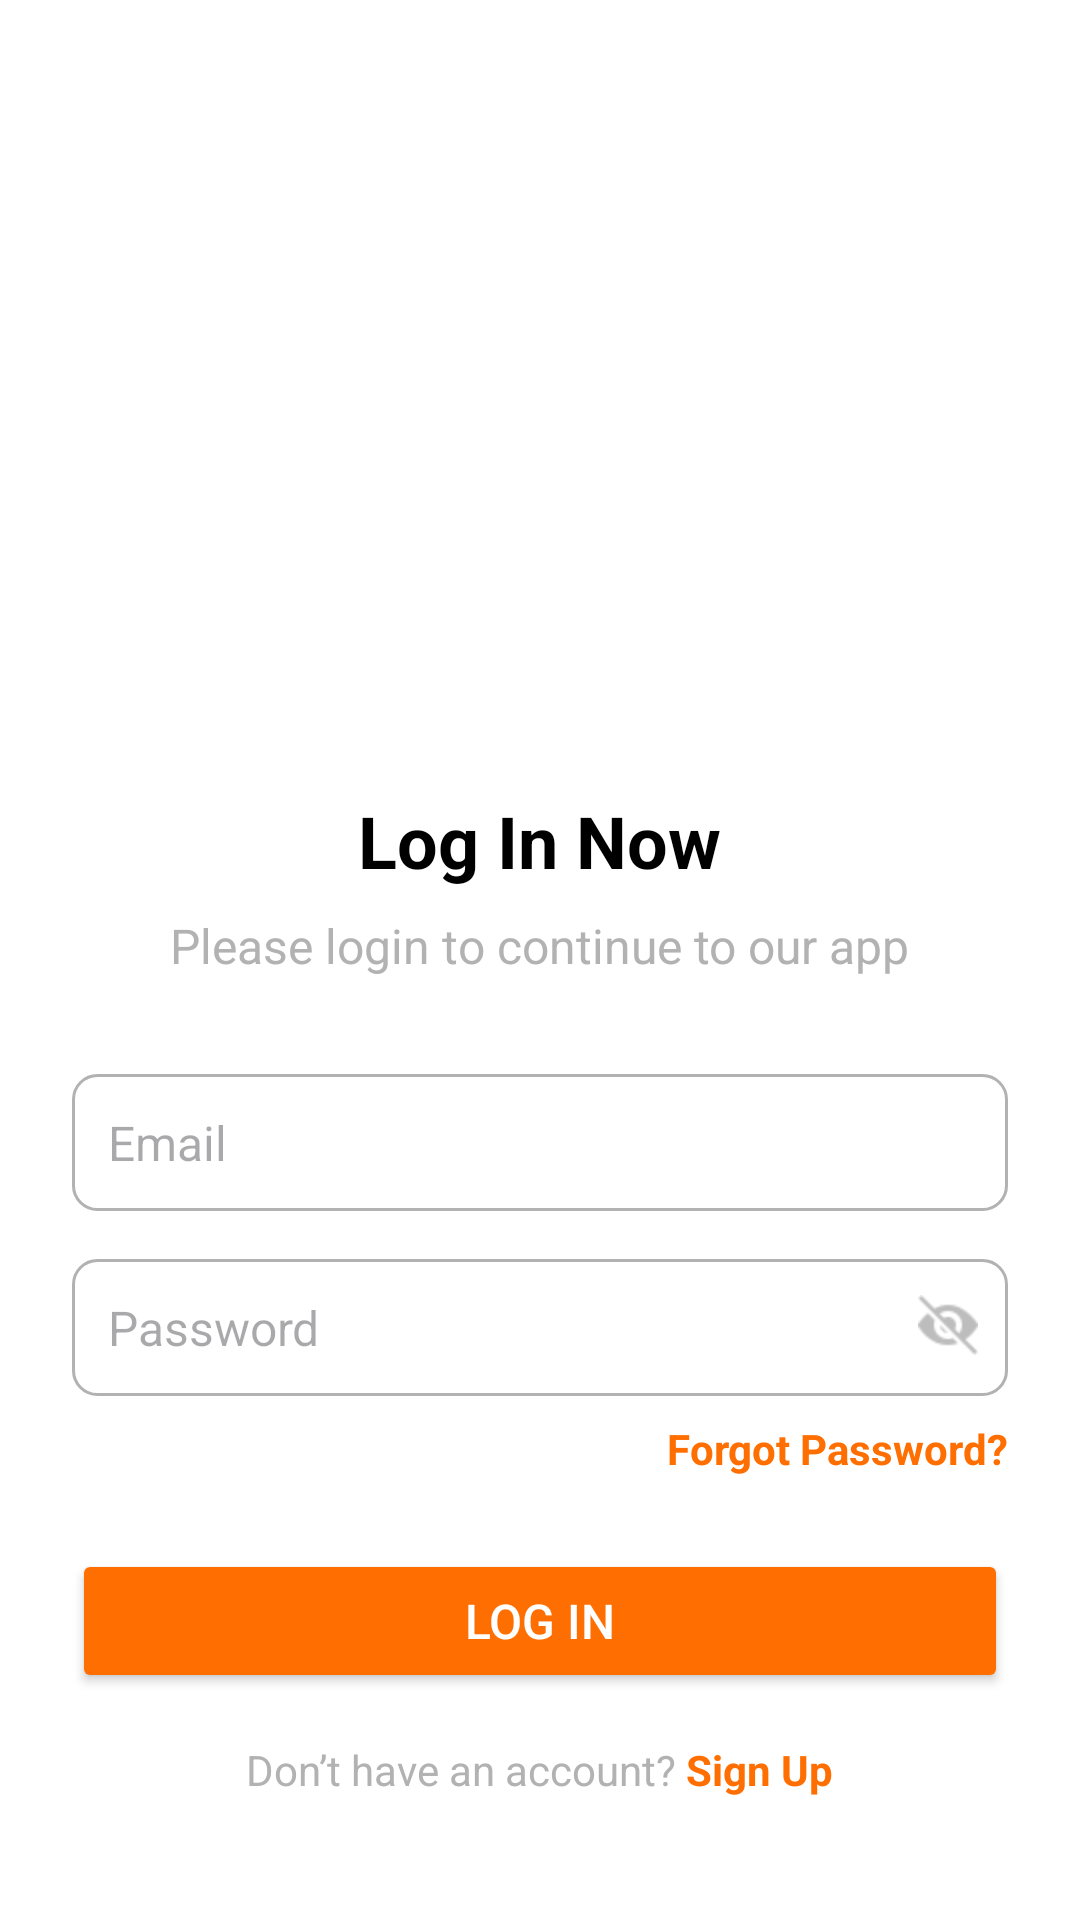

Point at icon controls on the screen. Image size 1080 × 1920, points as (x,y).
hide: (948,1325)
